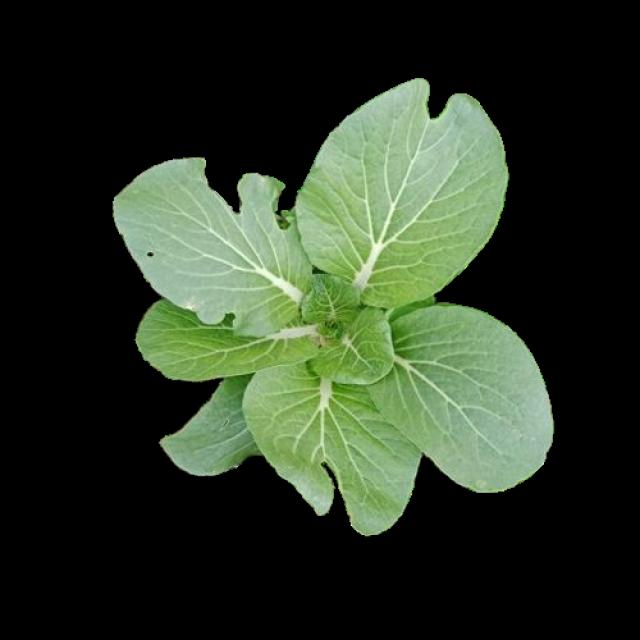mature: (112, 80, 550, 532)
unhealthy: (302, 81, 507, 321), (116, 156, 322, 337), (267, 354, 420, 532)
